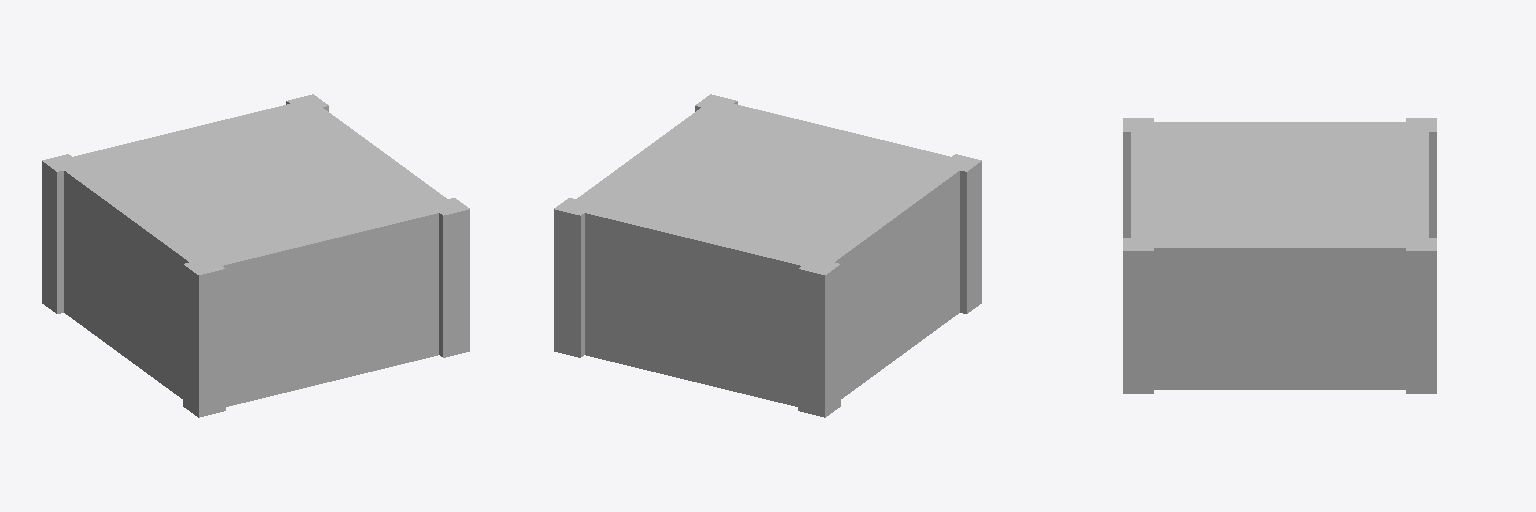
File: wallBlockHalf.obj
3 views of the same model, side by side, from view 1: azimuth 30°, elevation 25°; view 2: azimuth 150°, elevation 25°; view 3: azimuth 270°, elevation 25° (orthographic).
Visible parts, largest first — view 1: wallBlockHalf; view 2: wallBlockHalf; view 3: wallBlockHalf.
Boxes of the visible parts, x1,y1,x2,y2 form: wallBlockHalf: [42, 94, 469, 417]; wallBlockHalf: [554, 94, 981, 417]; wallBlockHalf: [1123, 118, 1436, 393].
Bounding box in the file's own units: 1 × 0.5 × 1.